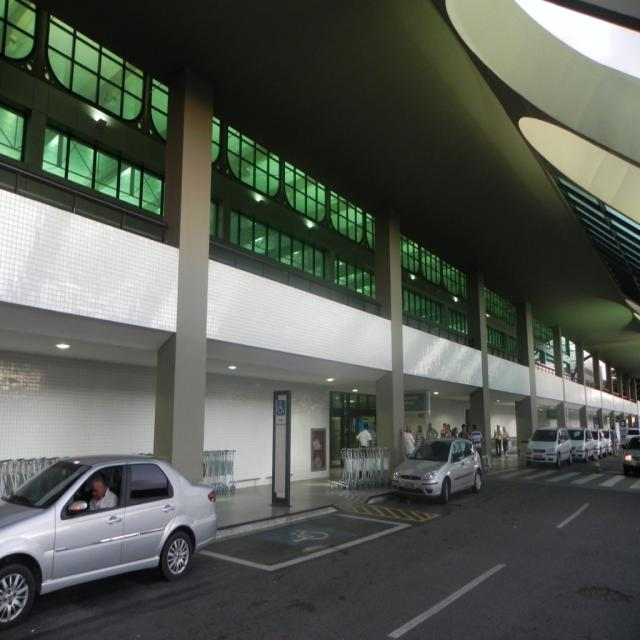car: (390, 429, 487, 500), (523, 428, 574, 464)
